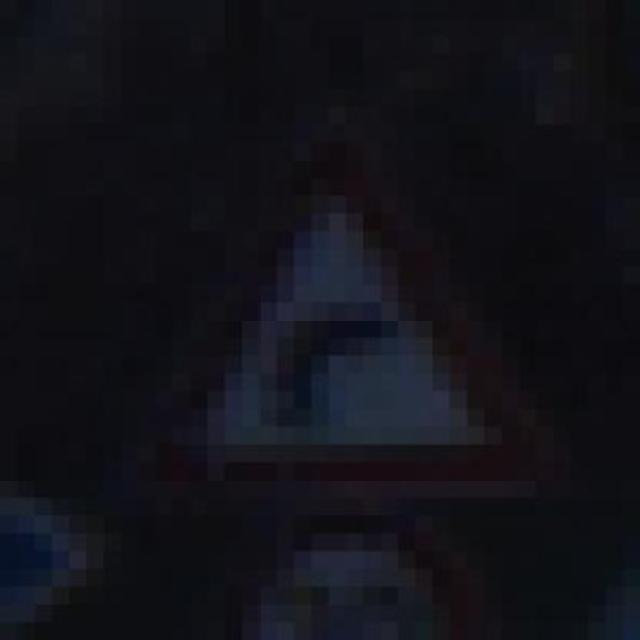Dangerous Rright Curve Ahead: (121, 107, 519, 516)
